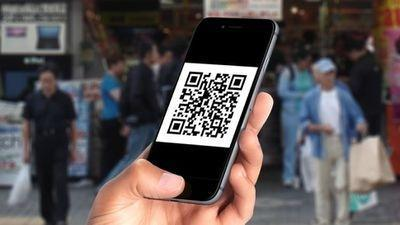Finder pattern: (184, 70, 204, 88), (225, 75, 250, 89), (167, 118, 185, 136)
